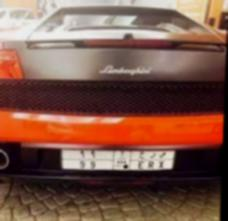License_Plate: (59, 146, 179, 173)
